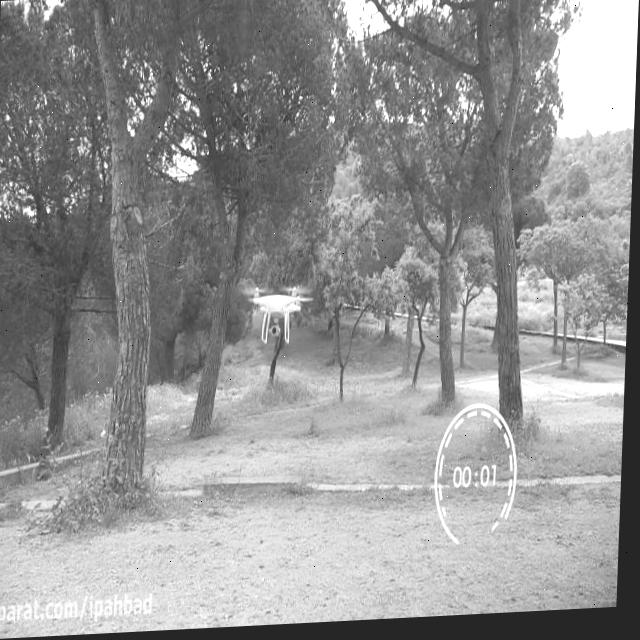drone: (242, 281, 315, 350)
